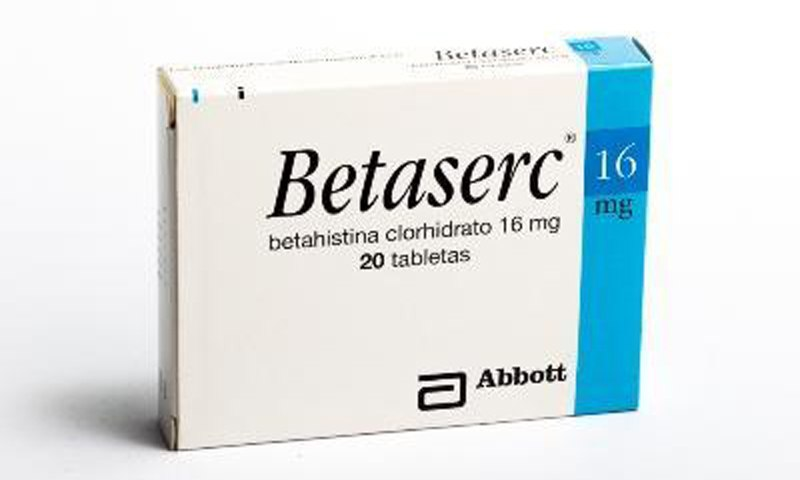Medicine: (150, 34, 664, 455)
